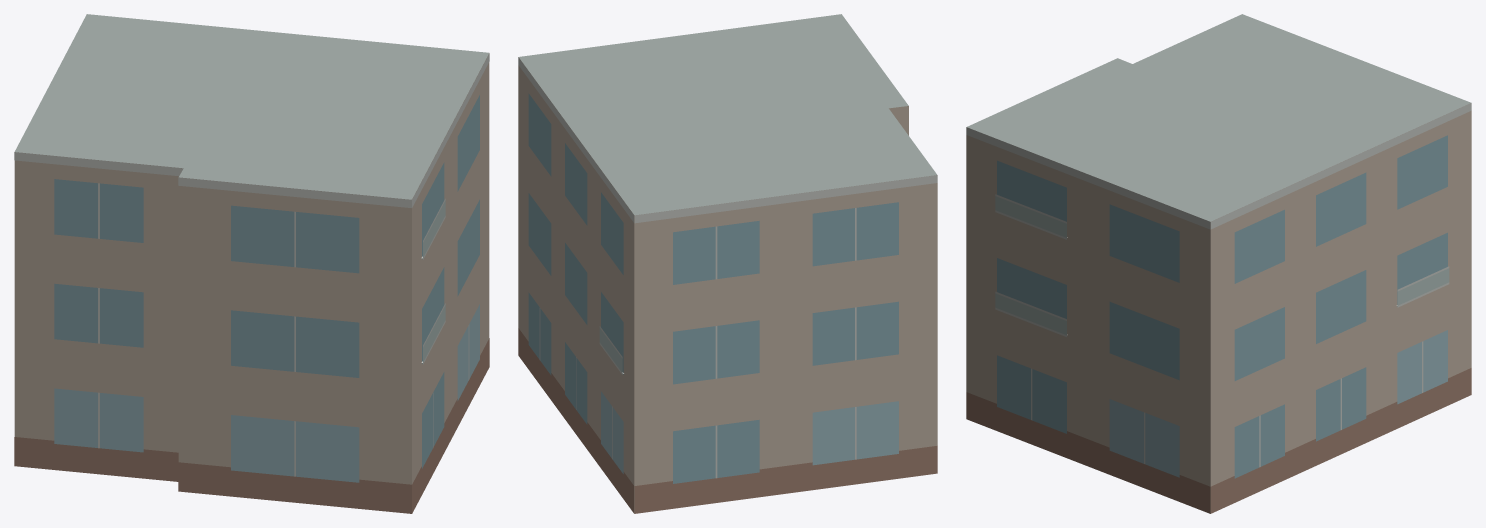
The model's file is survey-upis-32712093.glb.
3 views of the same model, side by side, from view 1: azimuth 30°, elevation 25°; view 2: azimuth 150°, elevation 25°; view 3: azimuth 270°, elevation 25° (orthographic). The views are drawn at different scales.
Parts seen in each view (by area): view 1: survey-upis-32712093.tmp; view 2: survey-upis-32712093.tmp; view 3: survey-upis-32712093.tmp.
Boxes of the visible parts, <box> form: survey-upis-32712093.tmp: <box>14,14,489,513</box>; survey-upis-32712093.tmp: <box>518,14,937,513</box>; survey-upis-32712093.tmp: <box>966,14,1471,513</box>.
Size of the model in its own units: 13.89 by 9.1 by 14.27.
